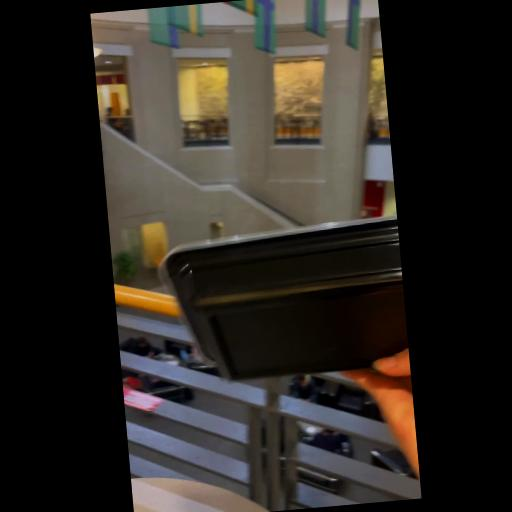rigid_plastic_container: (161, 212, 411, 387)
